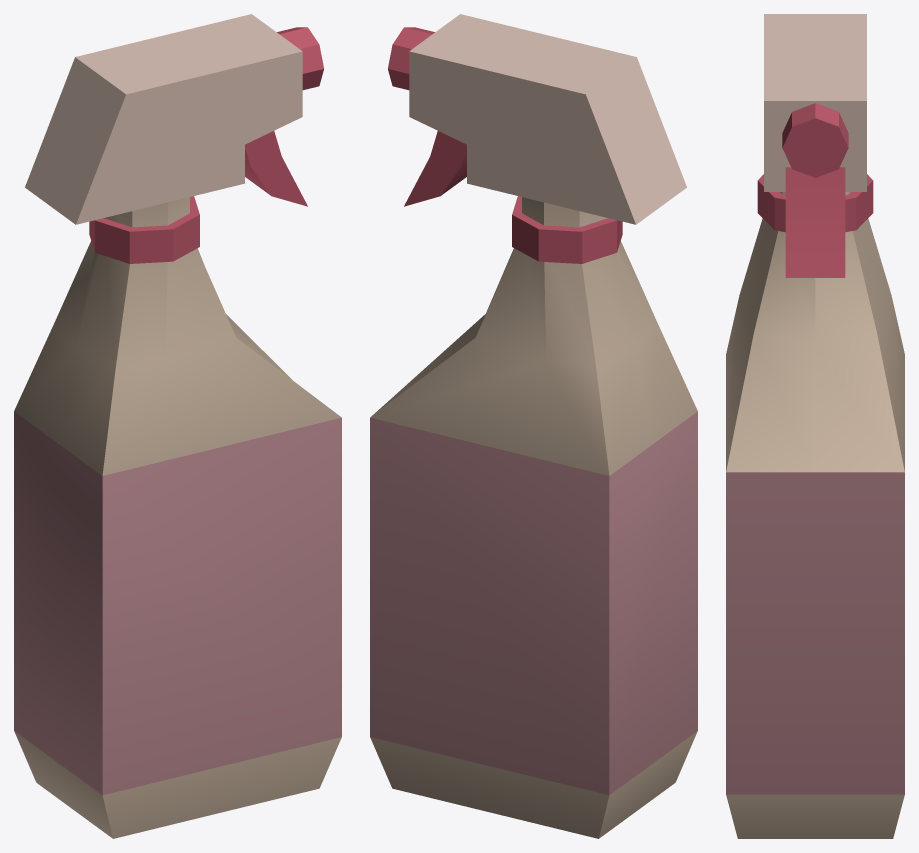
File: BottleSpray1_geo.fbx
The picture shows the model from 3 angles, left to right: view 1: azimuth 30°, elevation 25°; view 2: azimuth 150°, elevation 25°; view 3: azimuth 270°, elevation 25°; orthographic projection.
Visible parts, largest first — view 1: BottleSpray1_geo; view 2: BottleSpray1_geo; view 3: BottleSpray1_geo.
Boxes of the visible parts, x1,y1,x2,y2 form: BottleSpray1_geo: (14, 14, 341, 838); BottleSpray1_geo: (370, 14, 697, 838); BottleSpray1_geo: (726, 14, 904, 838).
Size of the model in its own units: 0.2462 by 0.1466 by 0.6657.
